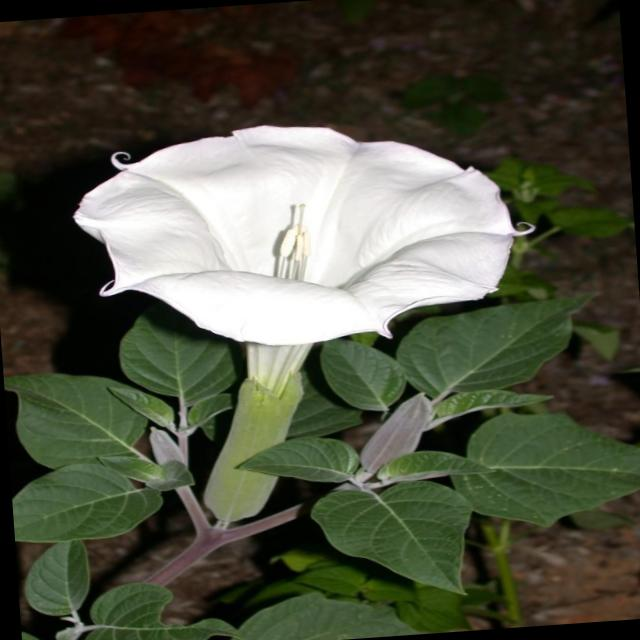Poisonous-Datura_Stramonium: (74, 111, 578, 640)
